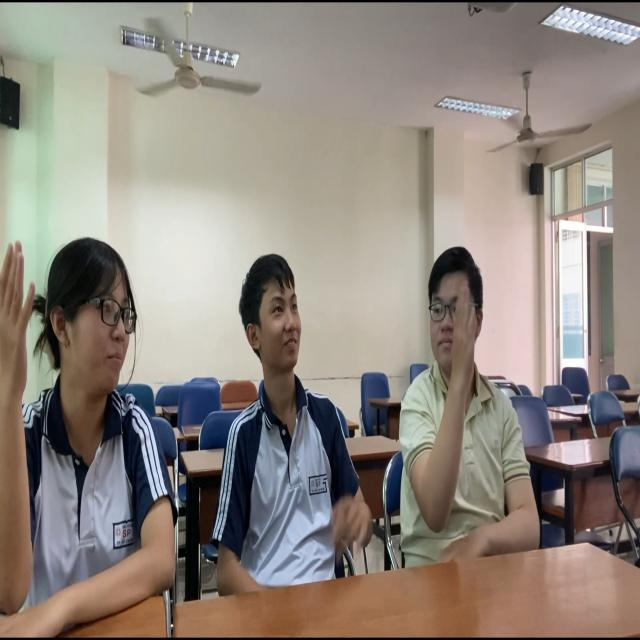raise_hand: (1, 202, 145, 606), (396, 211, 502, 567)
